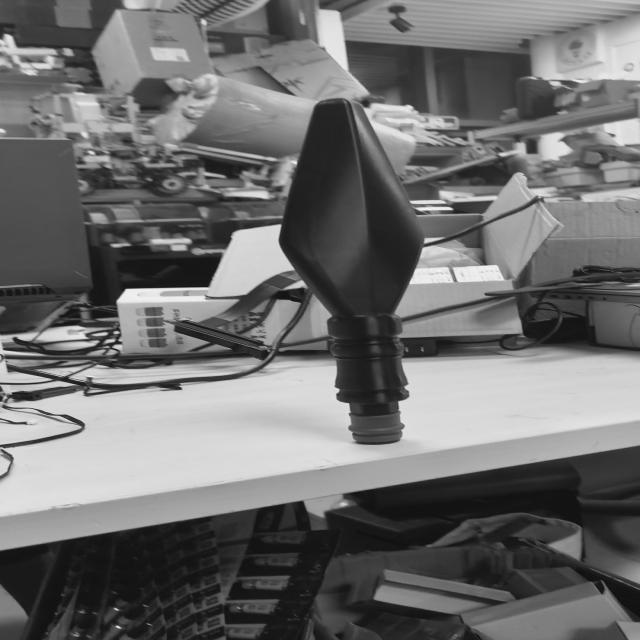base: (344, 412, 413, 453)
